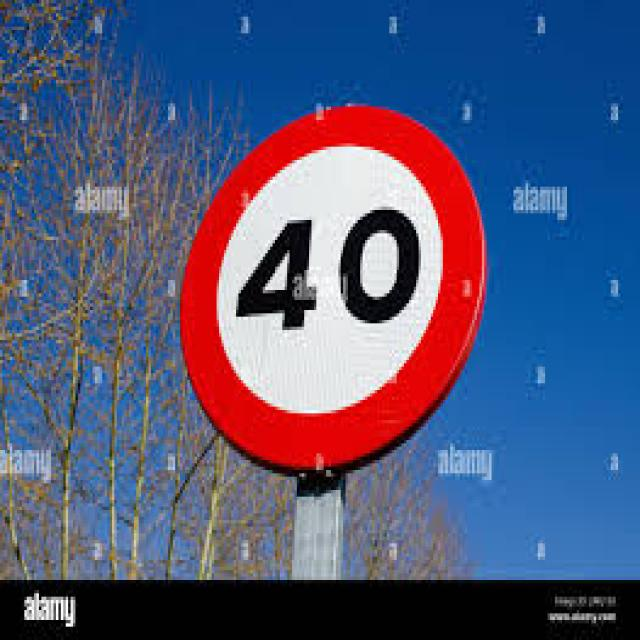speed_40: (184, 106, 486, 478)
